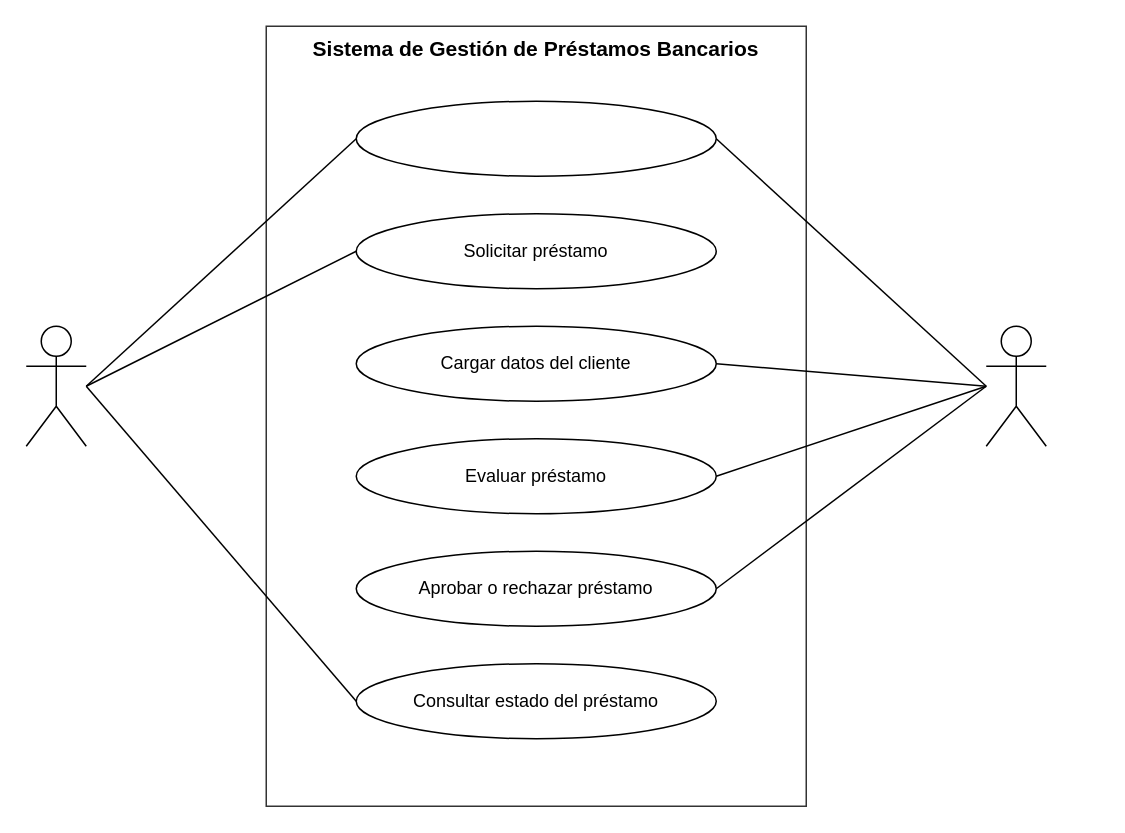
This 1125x833 diagram has some shape labels left out. The centre of each missing label's shape, as x and y in pixels:
Cliente: the point at 55,385
Empleado del Banco: the point at 1015,385
Iniciar sesión: the point at 535,138
